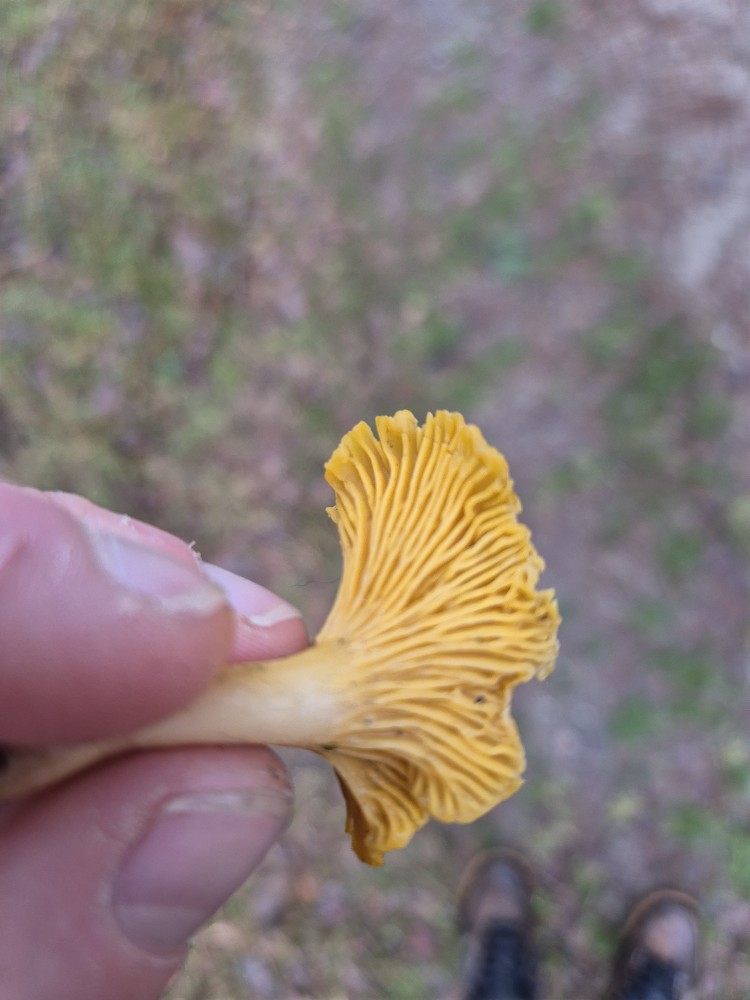stem: (0, 643, 348, 800)
underside: (316, 411, 559, 864)
